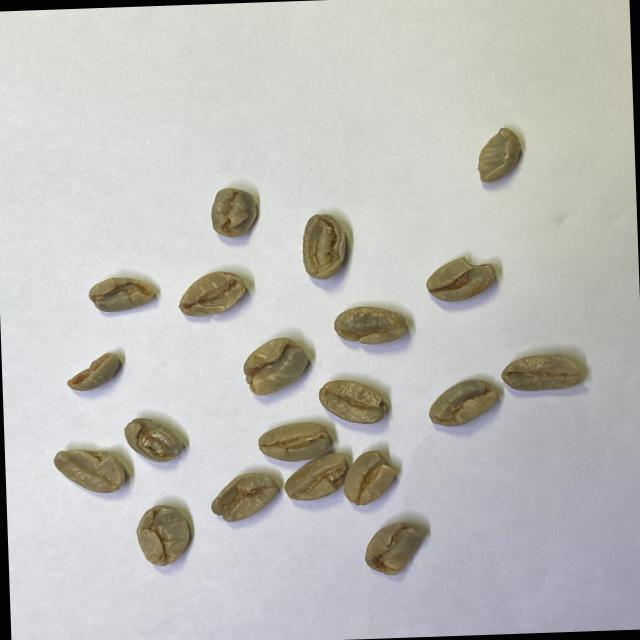bad: (237, 334, 312, 398), (130, 501, 194, 570), (52, 442, 131, 497), (206, 468, 282, 525), (338, 446, 404, 510), (360, 518, 428, 580), (422, 252, 498, 306), (425, 376, 503, 428), (175, 267, 250, 321), (498, 350, 590, 394), (280, 448, 352, 504), (296, 211, 351, 283), (316, 376, 390, 426), (330, 303, 410, 348), (122, 414, 190, 464), (473, 124, 526, 185), (85, 273, 158, 316), (206, 184, 261, 241), (62, 349, 124, 394)
good: (253, 418, 334, 466)
